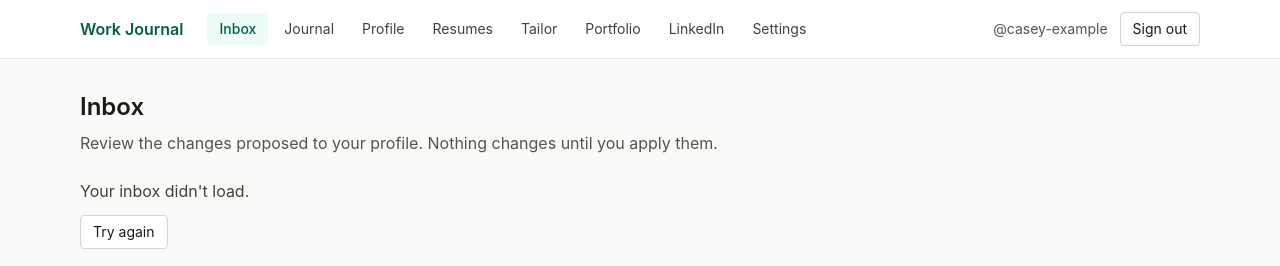
Scenario: the web app › moves between pages
This screenshot has width=1280, height=266.
Step 1. Click the link "Settings" → (779, 28), box [752,20,806,37]
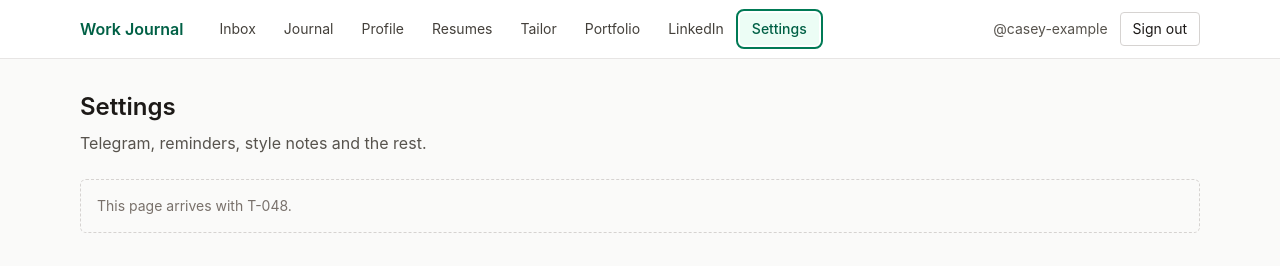
Now the heading "Settings" is shown, box [80,92,176,121]
Now the text "This page arrives with T-048." is shown, box [80,179,1200,233]
